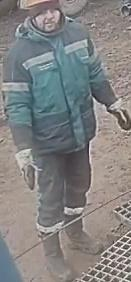gloves: (14, 148, 43, 191), (106, 97, 130, 132)
helmet: (24, 0, 53, 8)
vest: (16, 19, 96, 154)
